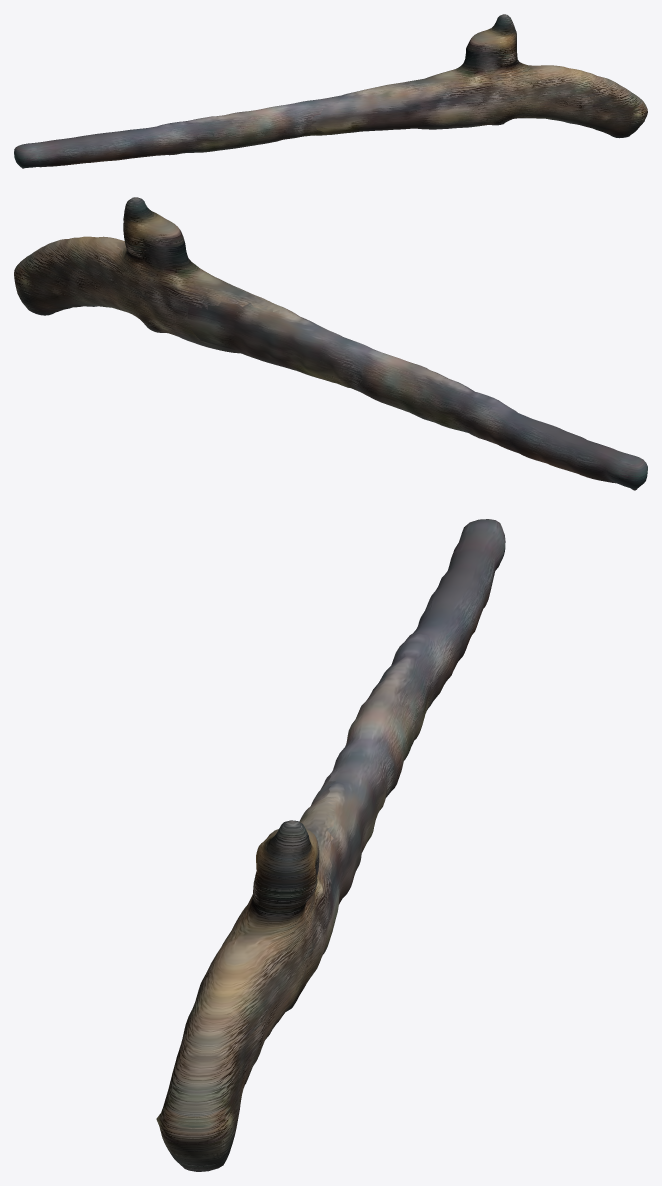
The model's file is kfl-2169.glb.
3 views of the same model, one above another, from view 1: azimuth 30°, elevation 25°; view 2: azimuth 150°, elevation 25°; view 3: azimuth 270°, elevation 25° (orthographic). The views are drawn at different scales.
Visible parts, largest first — view 1: geometry_0; view 2: geometry_0; view 3: geometry_0.
Part boxes in pixels (<box>): geometry_0: <box>14,14,647,168</box>; geometry_0: <box>14,197,647,490</box>; geometry_0: <box>156,519,505,1171</box>.
Size of the model in its own units: 0.9892 by 0.2185 by 0.2689.
1 material, 1 textured.
